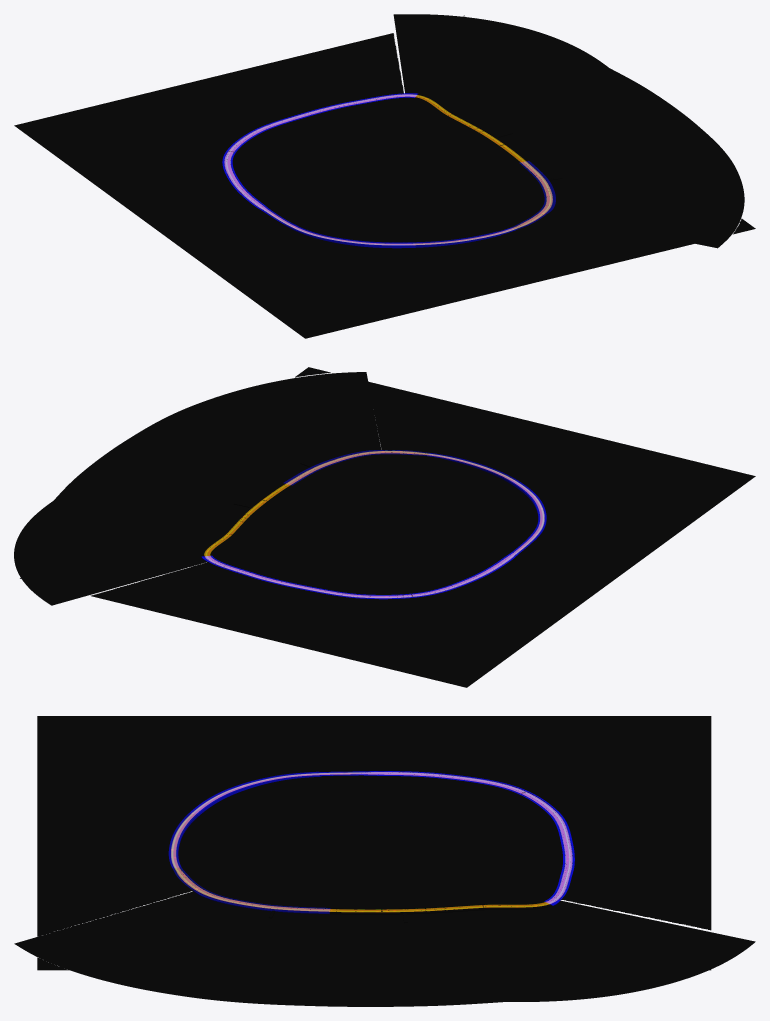
The model's file is istanbul_bogaz_road.glb.
3 renders of one model, top to bottom at view 1: azimuth 30°, elevation 25°; view 2: azimuth 150°, elevation 25°; view 3: azimuth 270°, elevation 25°, orthographic. The views are drawn at different scales.
Visible parts, largest first — view 1: ground-col, water_00; view 2: ground-col, water_00; view 3: ground-col, water_00.
Boxes of the visible parts, box(x1,y1,x2,y2) form: ground-col: box(14, 15, 755, 338); water_00: box(393, 14, 744, 248); ground-col: box(20, 367, 755, 687); water_00: box(14, 372, 381, 605); ground-col: box(37, 716, 711, 970); water_00: box(14, 891, 755, 1006).
Size of what is drawn, in the model's own units: 1260 by 7.36 by 1361.
